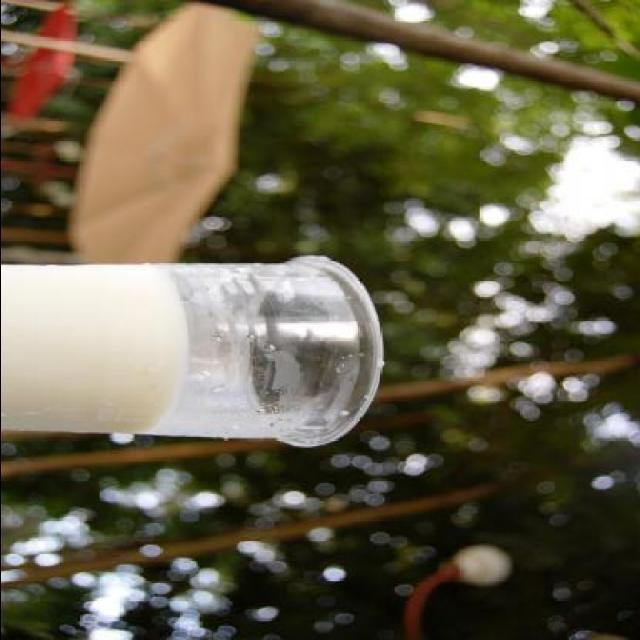Milk: (0, 262, 188, 436)
